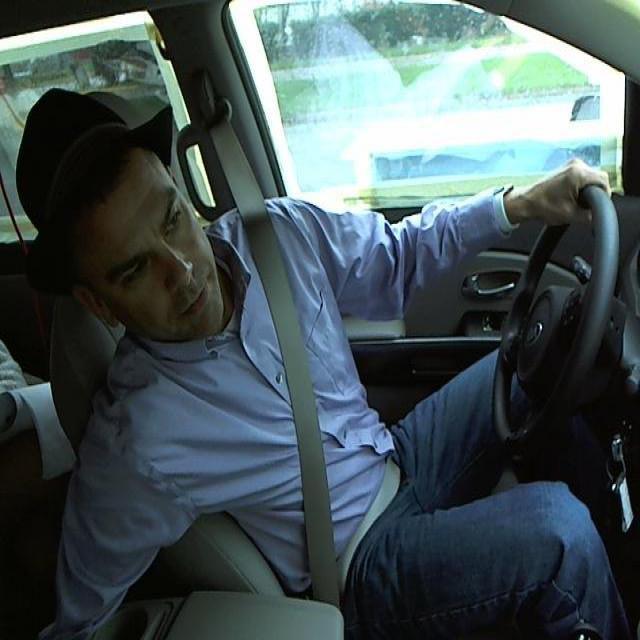seatbelt: (224, 197, 393, 591)
